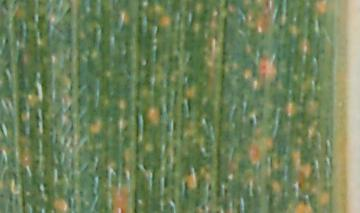tarspot: (185, 97, 192, 114), (183, 180, 189, 198), (163, 173, 168, 189), (247, 117, 255, 126), (207, 182, 212, 191), (223, 187, 229, 194), (200, 204, 206, 211), (42, 182, 48, 188), (214, 209, 220, 213)
